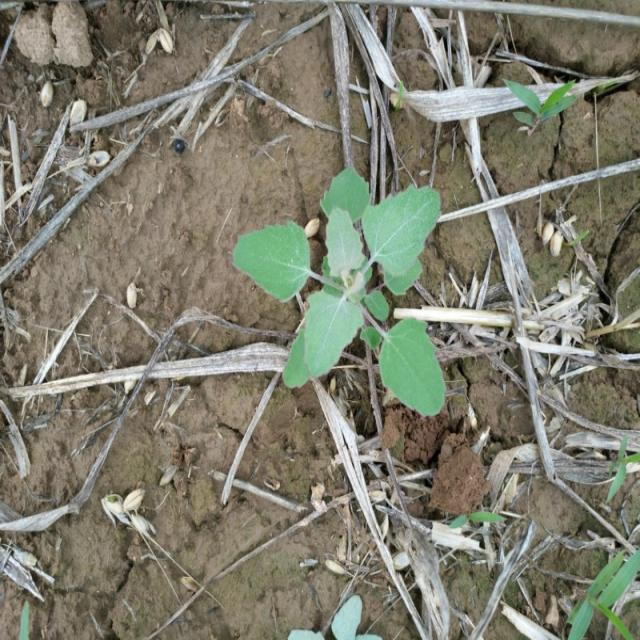goosefoots: (225, 160, 452, 415)
